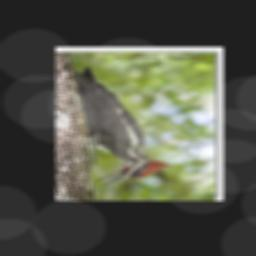Woodpecker: (74, 66, 172, 187)
